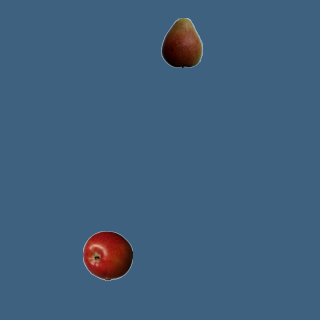Apple Braeburn: (82, 230, 132, 280)
Pear Forelle: (156, 17, 206, 67)
